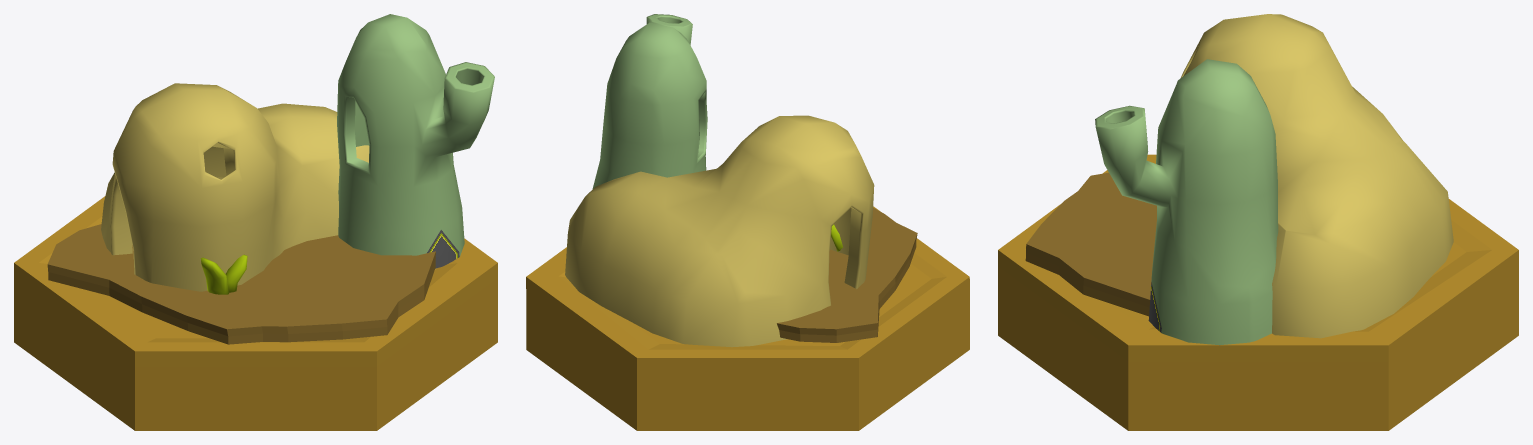
The model's file is TestPrefab.fbx.
3 renders of one model, left to right at view 1: azimuth 30°, elevation 25°; view 2: azimuth 150°, elevation 25°; view 3: azimuth 270°, elevation 25°, orthographic. The views are drawn at different scales.
Visible parts, largest first — view 1: Cylinder.033; view 2: Cylinder.033; view 3: Cylinder.033.
Part boxes in pixels (bbox=[...]): Cylinder.033: bbox=[14, 14, 497, 430]; Cylinder.033: bbox=[526, 14, 969, 430]; Cylinder.033: bbox=[998, 14, 1518, 430].
Bounding box in the file's own units: 173 × 141 × 200.
1 material, 1 textured.
